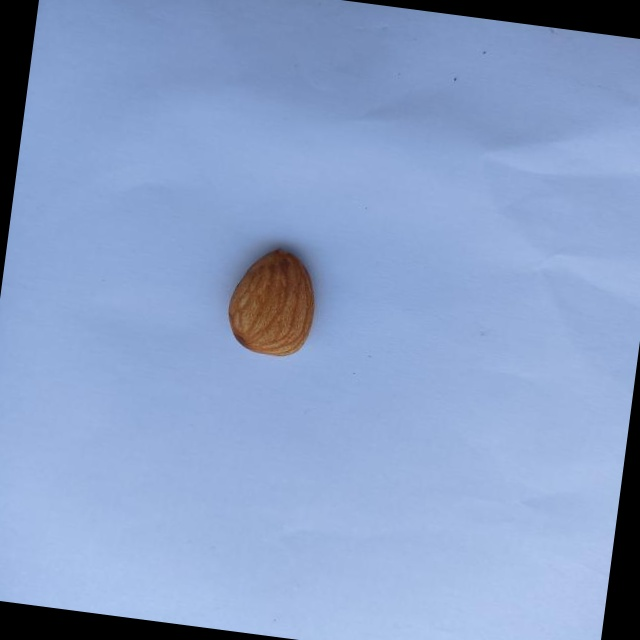grade1: (216, 235, 333, 368)
